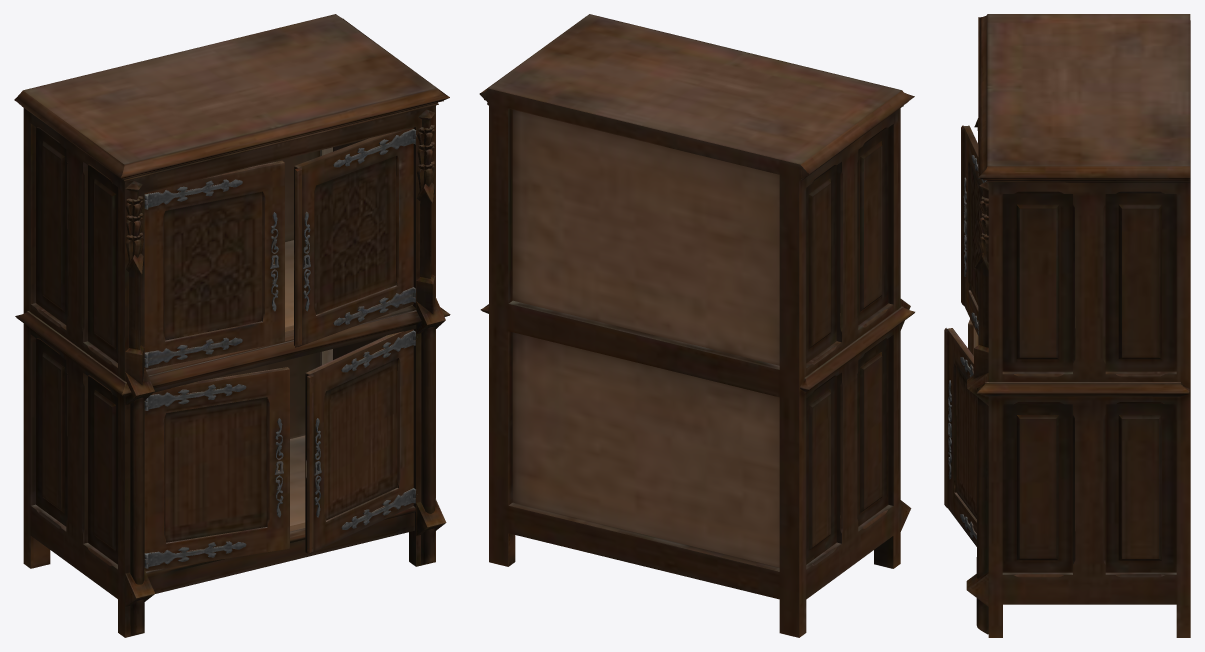
Rendered from GothicCabinet_01.glb.
3 renders of one model, left to right at view 1: azimuth 30°, elevation 25°; view 2: azimuth 150°, elevation 25°; view 3: azimuth 270°, elevation 25°, orthographic.
Visible parts, largest first — view 1: GothicCabinet_01_cabinet, GothicCabinet_01_door3, GothicCabinet_01_door1, GothicCabinet_01_door2, GothicCabinet_01_door4; view 2: GothicCabinet_01_cabinet; view 3: GothicCabinet_01_cabinet, GothicCabinet_01_door4, GothicCabinet_01_door2.
Part boxes in pixels (x1=…): GothicCabinet_01_cabinet: x1=14, y1=14, x2=450, y2=637; GothicCabinet_01_door3: x1=144, y1=367, x2=289, y2=571; GothicCabinet_01_door1: x1=144, y1=160, x2=284, y2=369; GothicCabinet_01_door2: x1=294, y1=127, x2=416, y2=347; GothicCabinet_01_door4: x1=305, y1=329, x2=417, y2=554; GothicCabinet_01_cabinet: x1=479, y1=14, x2=914, y2=637; GothicCabinet_01_cabinet: x1=966, y1=14, x2=1190, y2=637; GothicCabinet_01_door4: x1=944, y1=328, x2=976, y2=546; GothicCabinet_01_door2: x1=961, y1=125, x2=986, y2=335.
Bounding box in the file's own units: 1.72 × 2.36 × 1.12.
1 material, 1 textured.
